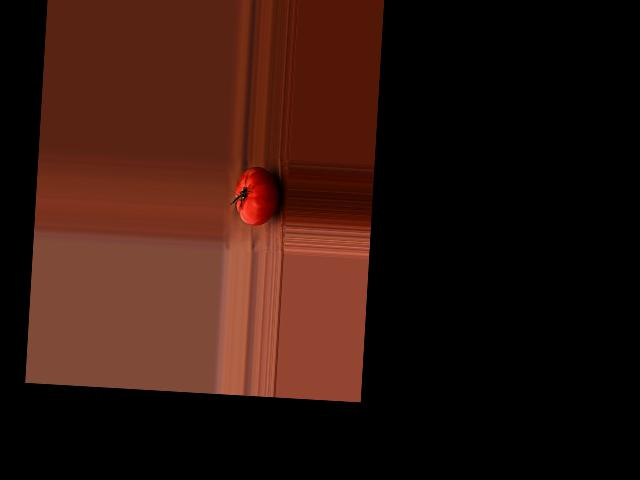tomato: (233, 166, 281, 227)
